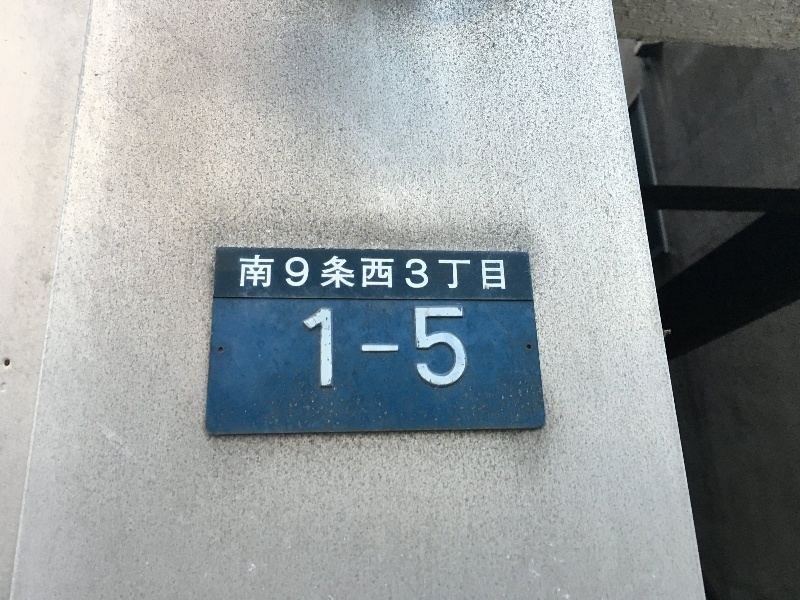text: (305, 306, 320, 388), (321, 306, 336, 388), (337, 306, 352, 388), (353, 306, 368, 388), (369, 306, 384, 388), (385, 306, 400, 388), (401, 306, 416, 388), (417, 306, 432, 388), (433, 306, 448, 388), (449, 306, 464, 388), (241, 255, 256, 291), (257, 255, 272, 291), (273, 255, 288, 291), (289, 255, 304, 291), (305, 255, 320, 291), (321, 255, 336, 291), (337, 255, 352, 291), (353, 255, 368, 291), (369, 255, 384, 291), (385, 255, 400, 291), (401, 255, 416, 291), (417, 255, 432, 291), (433, 255, 448, 291), (449, 255, 464, 291), (465, 255, 480, 291), (481, 255, 496, 291), (465, 306, 469, 388), (497, 255, 506, 291), (303, 306, 304, 388)
